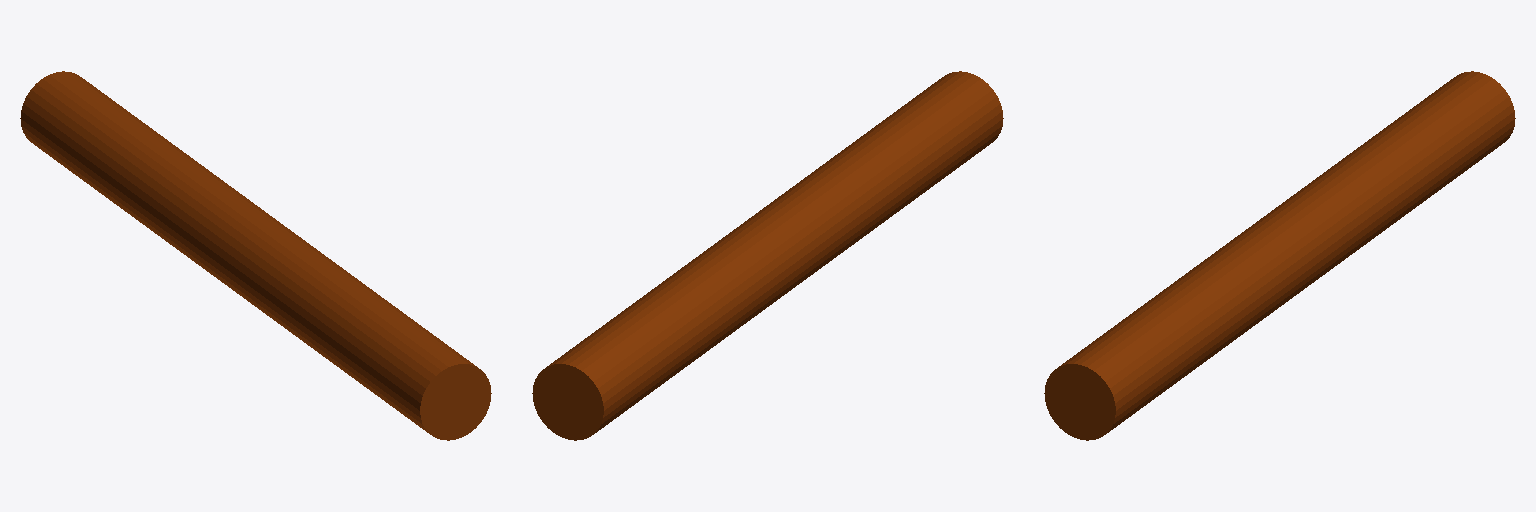
robot.urdf — cylinder:
<?xml version="1.0" ?>
<!-- =================================================================================== -->
<!-- |    This document was autogenerated by xacro from cylinder.xacro                 | -->
<!-- |    EDITING THIS FILE BY HAND IS NOT RECOMMENDED                                 | -->
<!-- =================================================================================== -->
<robot name="cylinder">
  <link name="world"/>
  <link name="base">
    <visual>
      <origin rpy="1.57079633 0 0" xyz="0 0 0"/>
      <geometry>
        <cylinder length="7.07106781185" radius="0.365"/>
      </geometry>
      <material name="cylinder_material">
        <color rgba="0.545 0.271 0.075 1.0"/>
        <texture filename="../textures/tree_bark.jpg"/>
      </material>
    </visual>
    <collision>
      <origin rpy="1.57079633 0 0" xyz="0 0 0"/>
      <geometry>
        <cylinder length="7.07106781185" radius="0.365"/>
      </geometry>
    </collision>
    <inertial>
      <origin rpy="0 0 0" xyz="0 0 0"/>
      <mass value="1"/>
      <inertia ixx="4.199972916648429" ixy="0.0" ixz="0.0" iyy="4.199972916648429" iyz="0.0" izz="24.999999999890573"/>
    </inertial>
  </link>
  <joint name="base_joint" type="fixed">
    <parent link="world"/>
    <child link="base"/>
    <origin rpy="0 0 0" xyz="0.0 0.0 0.0"/>
  </joint>
</robot>

--- What the picture shows (computed from the rendered views, not written in the file) ---
3 views of the same robot in one strip: view 1: azimuth 30°, elevation 25°; view 2: azimuth 150°, elevation 25°; view 3: azimuth 330°, elevation 25° (orthographic).
Model cylinder with 2 links and 1 joints (1 fixed), rooted at world, posed all joints at 0.
Visible links, largest first — view 1: base; view 2: base; view 3: base.
Link boxes in pixels (box(x1,y1,x2,y2)): base: box(20, 71, 491, 440); base: box(532, 71, 1003, 440); base: box(1044, 71, 1515, 440).
Size in the robot's own frame: 0.73 by 7.07 by 0.73 metres.
Geometry: primitives only (box / cylinder / sphere), no mesh files.
